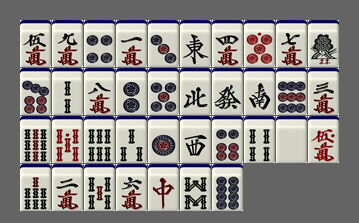0m: (308, 116, 339, 163)
0p: (244, 20, 275, 67)
0s: (52, 116, 83, 163)
1m: (116, 20, 147, 67)
1p: (148, 116, 179, 163)
1s: (308, 20, 339, 67)
1z: (180, 20, 211, 67)
2m: (52, 164, 83, 211)
2p: (116, 68, 147, 115)
2s: (52, 68, 83, 115)
2z: (244, 68, 275, 115)
3m: (308, 68, 339, 115)
3p: (148, 20, 179, 67)
3s: (116, 116, 147, 163)
3z: (180, 116, 211, 163)
4m: (212, 20, 243, 67)
4p: (84, 20, 115, 67)
4s: (244, 116, 275, 163)
4z: (180, 68, 211, 115)
5m: (20, 20, 51, 67)
5p: (148, 68, 179, 115)
5s: (84, 164, 115, 211)
5z: (276, 116, 307, 163)
6m: (116, 164, 147, 211)
6p: (212, 116, 243, 163)
6s: (84, 116, 115, 163)
6z: (212, 68, 243, 115)
7m: (276, 20, 307, 67)
7p: (20, 68, 51, 115)
7s: (20, 164, 51, 211)
7z: (148, 164, 179, 211)
8m: (84, 68, 115, 115)
8p: (212, 164, 243, 211)
8s: (180, 164, 211, 211)
9m: (52, 20, 83, 67)
9p: (276, 68, 307, 115)
9s: (20, 116, 51, 163)
